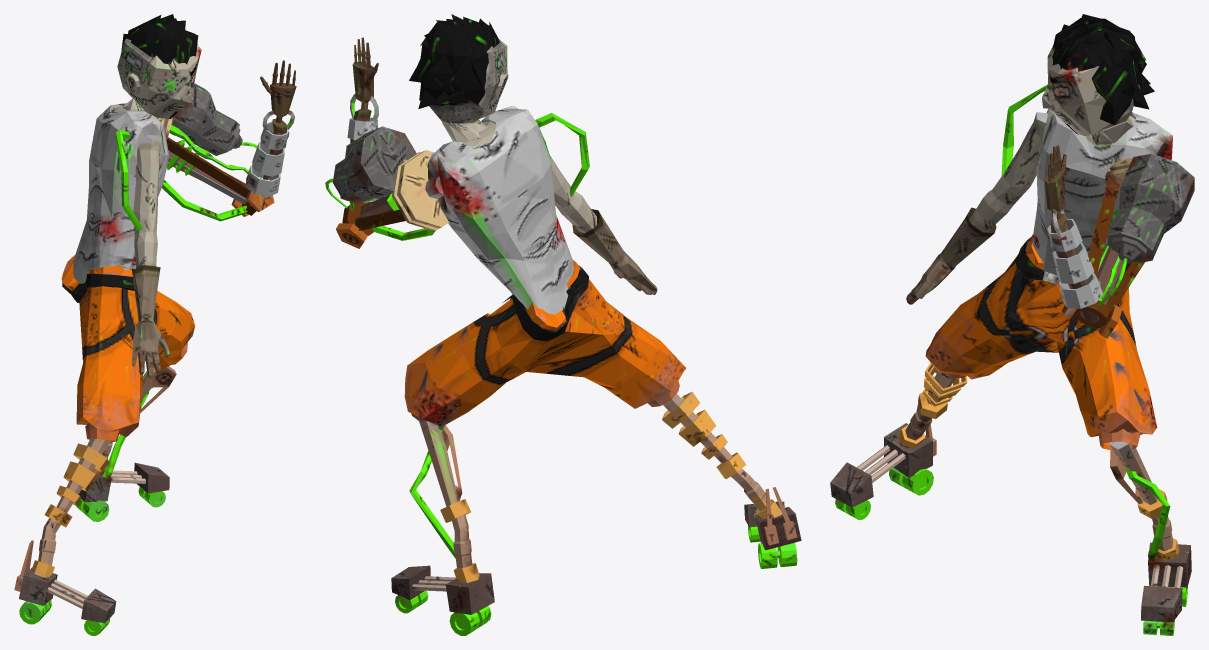
Rendered from CyborgFINALAnimation_000043.obj.
3 renders of one model, left to right at view 1: azimuth 30°, elevation 25°; view 2: azimuth 150°, elevation 25°; view 3: azimuth 270°, elevation 25°, orthographic. The views are drawn at different scales.
Parts seen in each view (by area): view 1: CyborgMesh_Cube.002; view 2: CyborgMesh_Cube.002; view 3: CyborgMesh_Cube.002.
Boxes of the visible parts, box(x1,y1,x2,y2) form: CyborgMesh_Cube.002: box(14, 14, 296, 635); CyborgMesh_Cube.002: box(325, 14, 801, 635); CyborgMesh_Cube.002: box(830, 14, 1194, 635).
Size of the model in its own units: 6.01 by 8.66 by 4.71.
